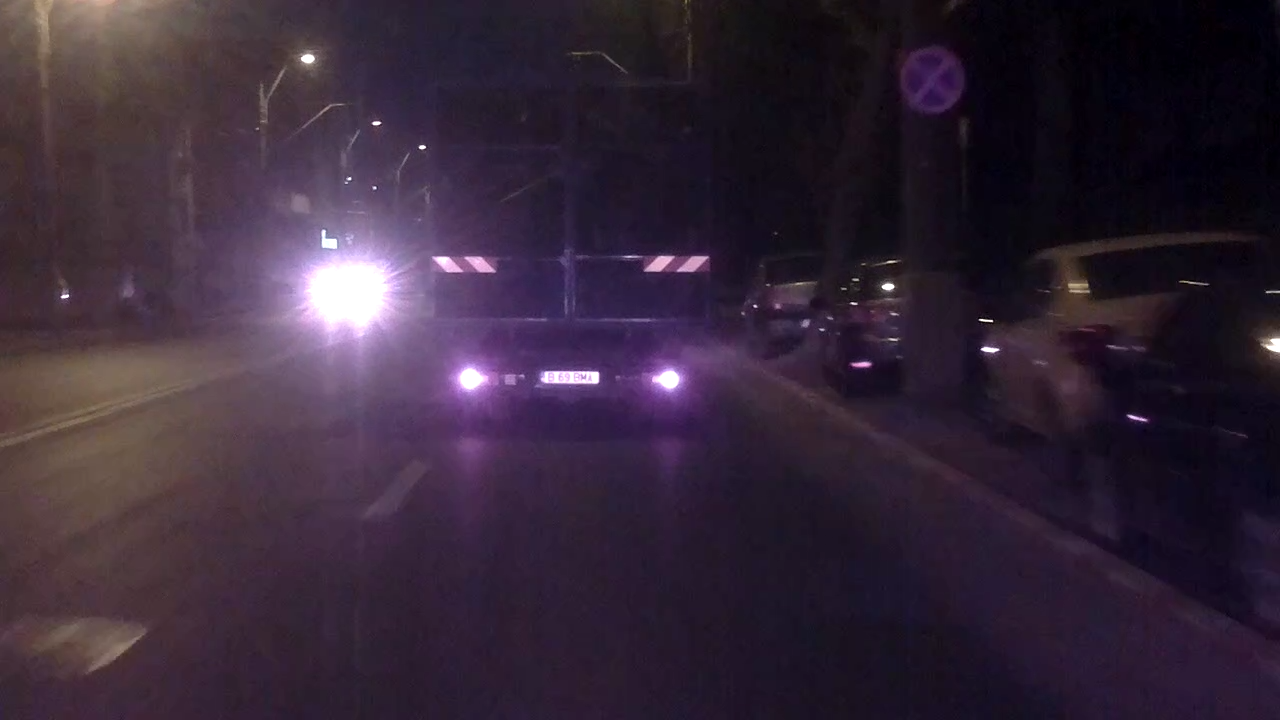license-plate: (536, 368, 603, 388)
